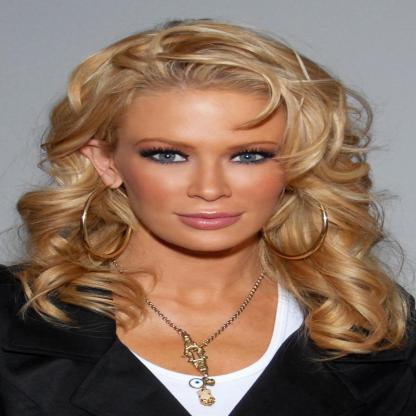long-hair: (11, 256, 399, 298)
